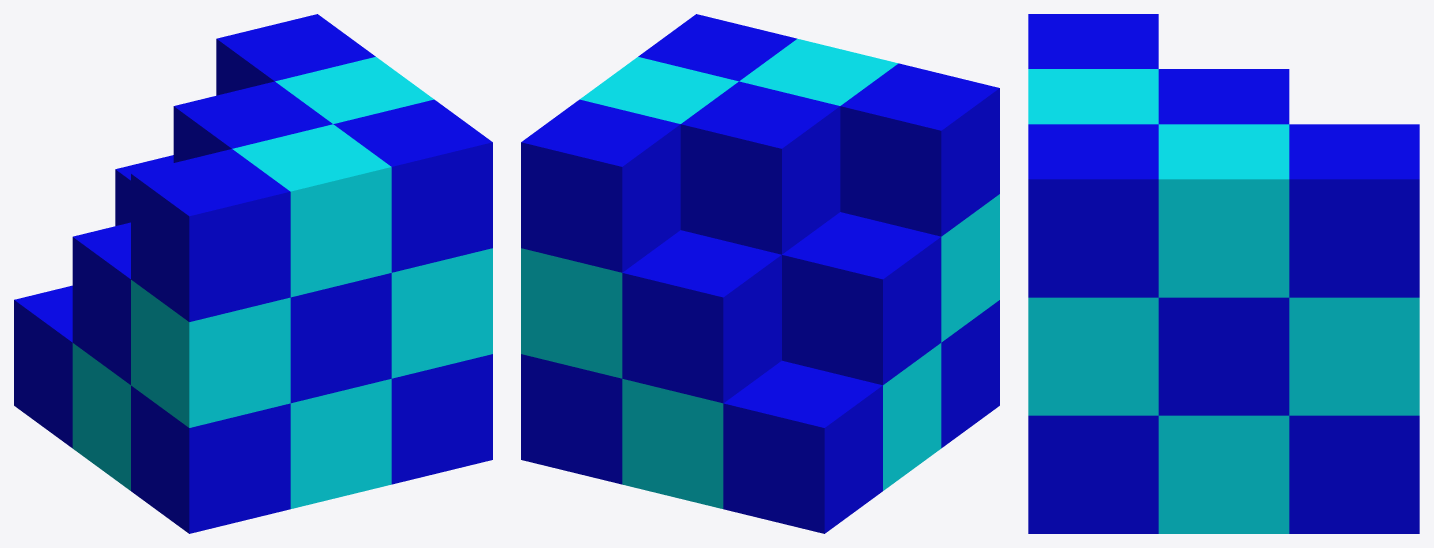
The model's file is ejercicio3.glb.
The picture shows the model from 3 angles, left to right: view 1: azimuth 30°, elevation 25°; view 2: azimuth 150°, elevation 25°; view 3: azimuth 270°, elevation 25°; orthographic projection. The views are drawn at different scales.
Visible parts, largest first — view 1: Box045, Box015, Box030, Box041, Box044, Box011, Box026, Box014, Box029, Box010, Box020, Box034 (+4 smaller); view 2: Box034, Box024, Box045, Box010, Box036, Box020, Box006, Box021, Box009, Box005, Box015, Box030 (+3 smaller); view 3: Box031, Box036, Box041, Box001, Box016, Box006, Box011, Box021, Box026, Box034, Box044, Box045.
Part boxes in pixels (bbox=[...]): Box045: bbox=[131, 149, 290, 321]; Box015: bbox=[131, 385, 290, 533]; Box030: bbox=[131, 280, 290, 427]; Box041: bbox=[333, 99, 492, 272]; Box044: bbox=[232, 124, 391, 297]; Box011: bbox=[391, 354, 492, 484]; Box026: bbox=[391, 248, 492, 378]; Box014: bbox=[290, 379, 391, 508]; Box029: bbox=[290, 273, 391, 403]; Box010: bbox=[14, 285, 72, 448]; Box020: bbox=[72, 222, 130, 384]; Box034: bbox=[173, 81, 332, 162]; Box034: bbox=[680, 81, 840, 254]; Box024: bbox=[622, 230, 781, 403]; Box045: bbox=[840, 63, 999, 236]; Box010: bbox=[723, 360, 882, 533]; Box036: bbox=[521, 99, 680, 272]; Box020: bbox=[782, 212, 941, 385]; Box006: bbox=[521, 354, 622, 484]; Box021: bbox=[521, 248, 622, 378]; Box009: bbox=[622, 379, 723, 508]; Box005: bbox=[883, 343, 941, 490]; Box015: bbox=[941, 300, 999, 448]; Box030: bbox=[941, 194, 999, 342]; Box031: bbox=[1158, 124, 1289, 297]; Box036: bbox=[1289, 124, 1419, 297]; Box041: bbox=[1028, 124, 1158, 297]; Box001: bbox=[1158, 415, 1289, 533]; Box016: bbox=[1158, 297, 1289, 415]; Box006: bbox=[1289, 415, 1419, 533]; Box011: bbox=[1028, 415, 1158, 533]; Box021: bbox=[1289, 297, 1419, 415]; Box026: bbox=[1028, 297, 1158, 415]; Box034: bbox=[1158, 69, 1289, 124]; Box044: bbox=[1028, 69, 1158, 124]; Box045: bbox=[1028, 14, 1158, 68].
Bounding box in the file's own units: 0.1524 × 0.1524 × 0.1524.
